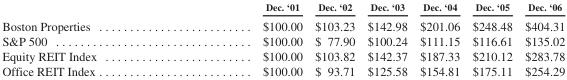table: (1, 1, 564, 77)
table column: (1, 1, 178, 77), (178, 1, 308, 77), (360, 1, 413, 77), (465, 1, 518, 77), (308, 1, 360, 77), (413, 1, 465, 77), (518, 1, 564, 77)
table column header: (1, 1, 564, 15)
table row: (1, 15, 564, 33), (1, 33, 564, 48), (1, 48, 564, 63), (1, 1, 564, 15), (1, 63, 564, 77)
